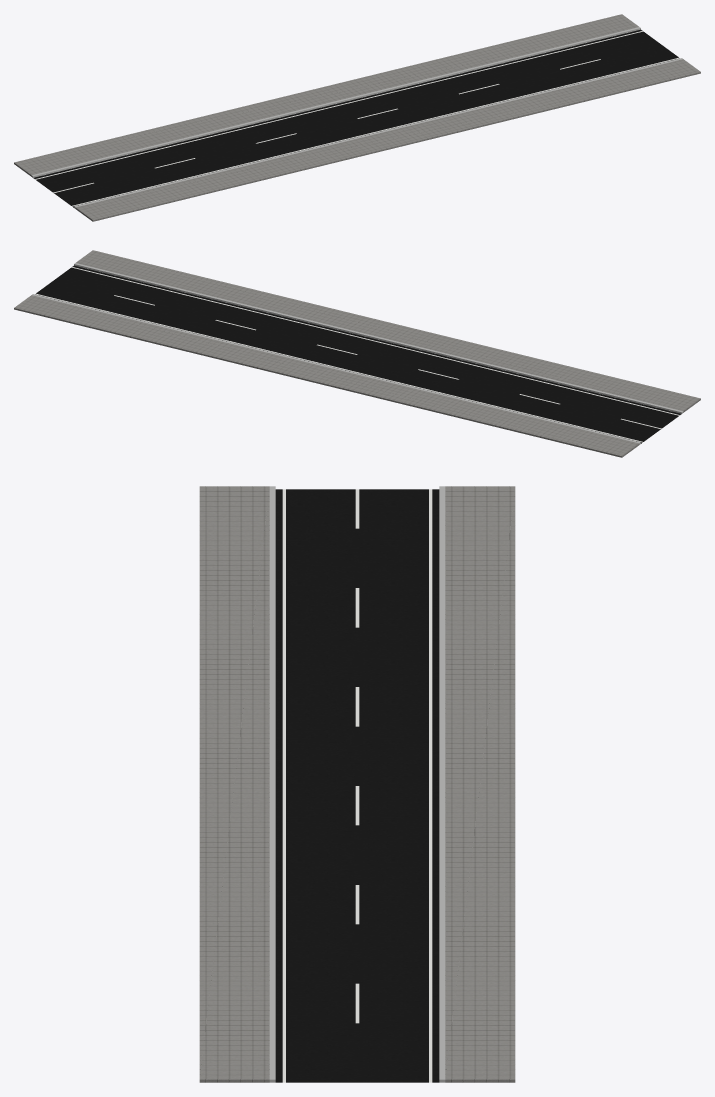
The model's file is road.glb.
3 renders of one model, top to bottom at view 1: azimuth 30°, elevation 25°; view 2: azimuth 150°, elevation 25°; view 3: azimuth 270°, elevation 25°, orthographic. The views are drawn at different scales.
Parts seen in each view (by area): view 1: Asphalt, Sidewalk_L, Curb_L, CentreDash; view 2: Asphalt, Sidewalk_L, Curb_L, CentreDash; view 3: Asphalt, Sidewalk_L, Curb_L, CentreDash.
Part boxes in pixels (left/top/right/bottom): Asphalt: left=33, top=29, right=679, bottom=207; Sidewalk_L: left=14, top=14, right=700, bottom=221; Curb_L: left=31, top=27, right=682, bottom=208; CentreDash: left=35, top=31, right=679, bottom=206; Asphalt: left=35, top=265, right=681, bottom=443; Sidewalk_L: left=14, top=250, right=700, bottom=457; Curb_L: left=32, top=263, right=683, bottom=444; CentreDash: left=35, top=267, right=679, bottom=442; Asphalt: left=275, top=489, right=439, bottom=1082; Sidewalk_L: left=199, top=486, right=515, bottom=1082; Curb_L: left=269, top=486, right=445, bottom=1082; CentreDash: left=282, top=489, right=432, bottom=1082.
Bounding box in the file's own units: 60 × 0.1482 × 13.5.
Materials: 4 (2 with a texture image).
